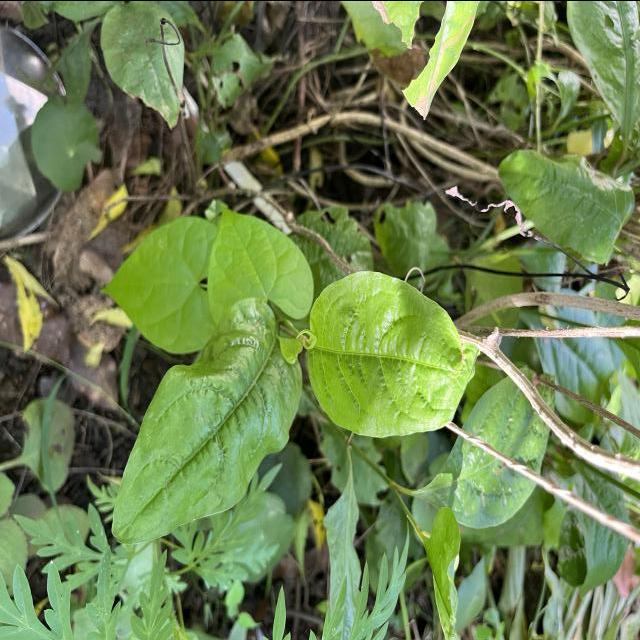Plumbago indica: (110, 296, 304, 546), (303, 266, 473, 438)
